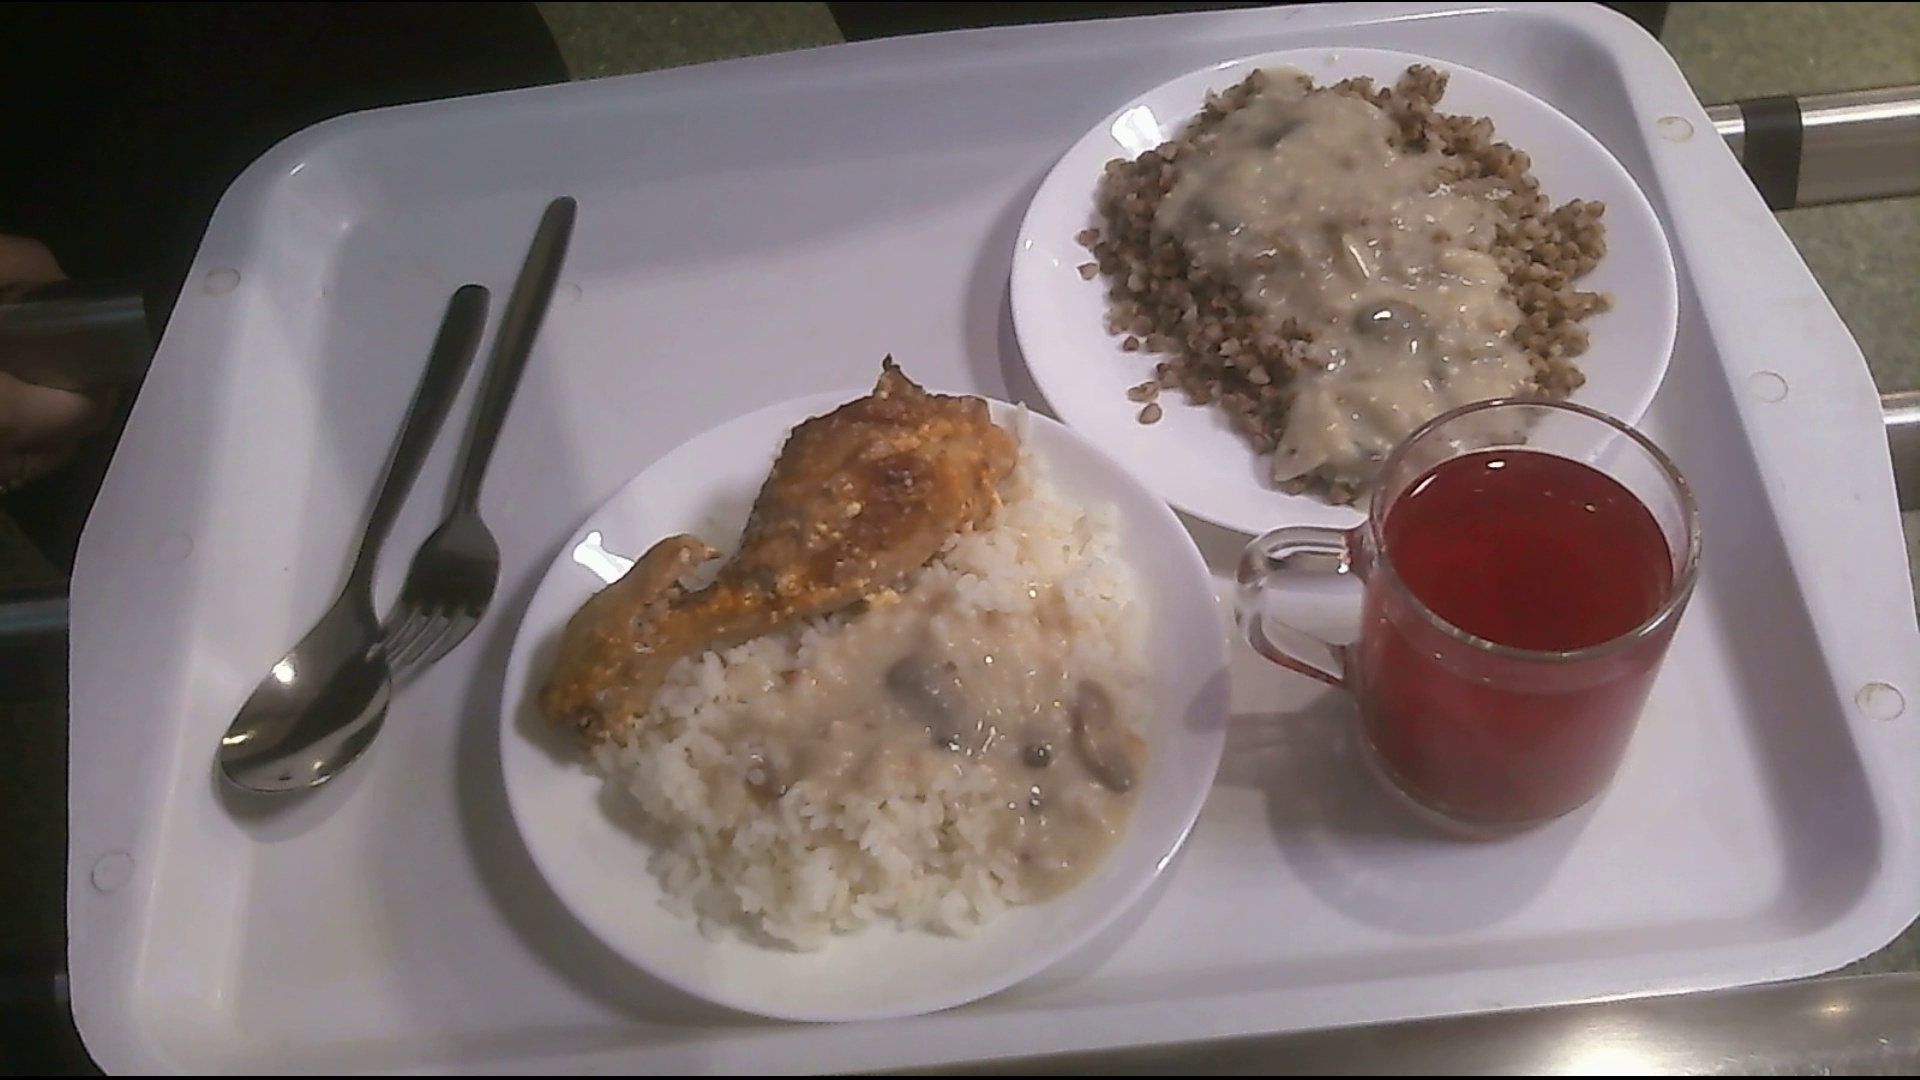cutlery: (235, 266, 492, 819), (367, 196, 584, 716)
drink: (1237, 397, 1708, 862)
plate: (504, 365, 1229, 1040), (1015, 45, 1675, 555)
